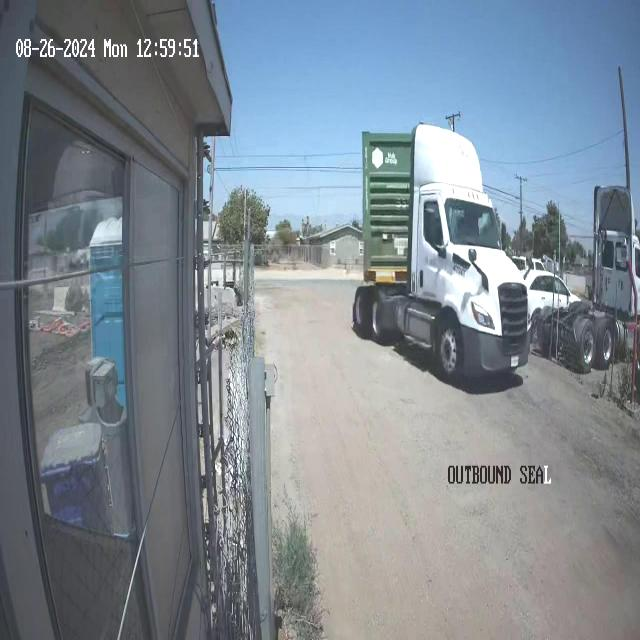CONTAINER: (362, 129, 424, 286)
